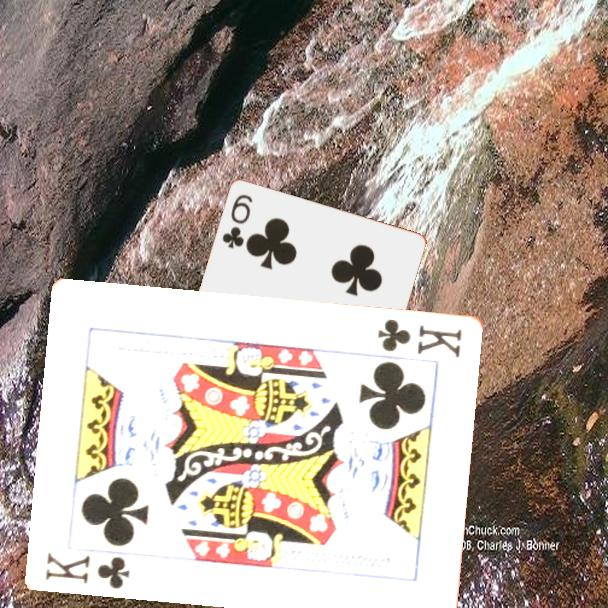c06: (219, 191, 255, 252)
c13: (375, 315, 465, 360), (43, 548, 133, 592)
